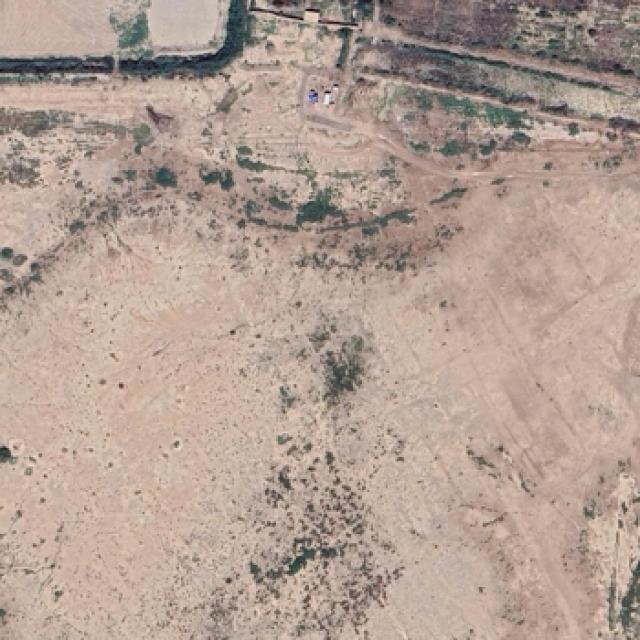ruins: (217, 62, 380, 178), (467, 346, 594, 473)
vegetation: (405, 86, 535, 134), (312, 333, 368, 404)
